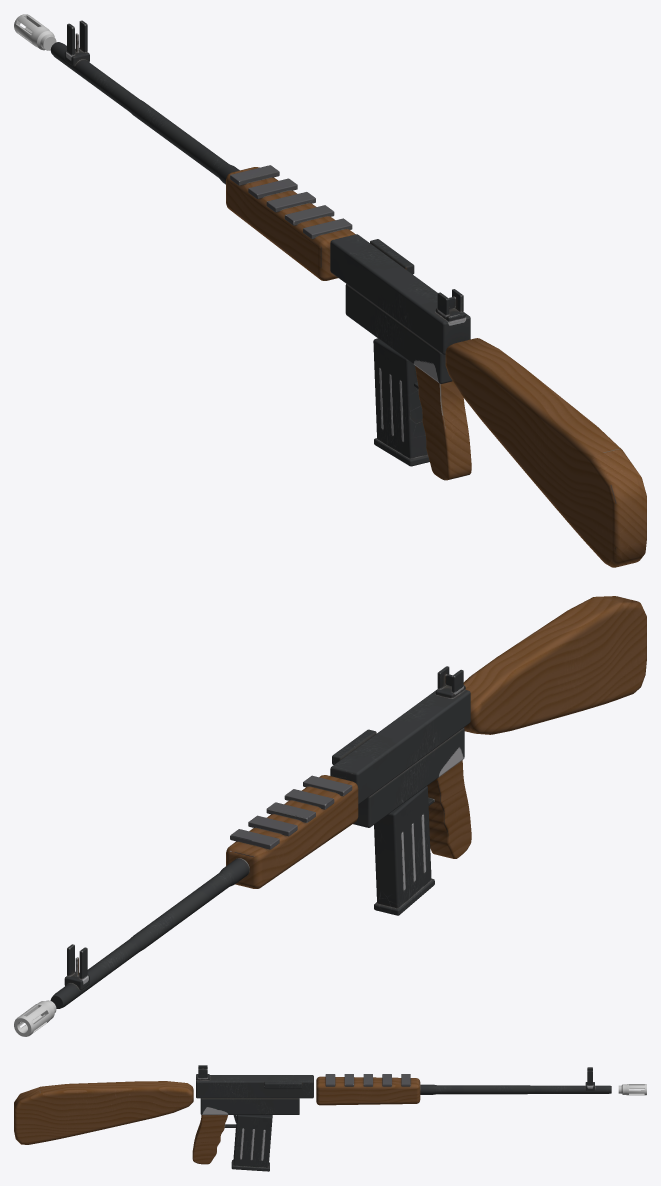
The model's file is fal.gltf.
3 renders of one model, top to bottom at view 1: azimuth 30°, elevation 25°; view 2: azimuth 150°, elevation 25°; view 3: azimuth 270°, elevation 25°, orthographic. The views are drawn at different scales.
Visible parts, largest first — view 1: Frame, Stock, Mag_body, FlashHider; view 2: Frame, Stock, Mag_body, FlashHider; view 3: Frame, Stock, Mag_body, FlashHider.
Boxes of the visible parts, <box> form: Frame: <box>50,20,471,480</box>; Stock: <box>445,338,646,567</box>; Mag_body: <box>373,338,429,466</box>; FlashHider: <box>14,14,56,50</box>; Frame: <box>50,666,471,1008</box>; Stock: <box>463,596,646,734</box>; Mag_body: <box>374,786,434,915</box>; FlashHider: <box>14,1000,56,1036</box>; Frame: <box>192,1065,611,1164</box>; Stock: <box>14,1081,193,1144</box>; Mag_body: <box>231,1115,272,1171</box>; FlashHider: <box>618,1084,646,1095</box>.
Bounding box in the file's own units: 0.056 × 0.2364 × 1.34.
